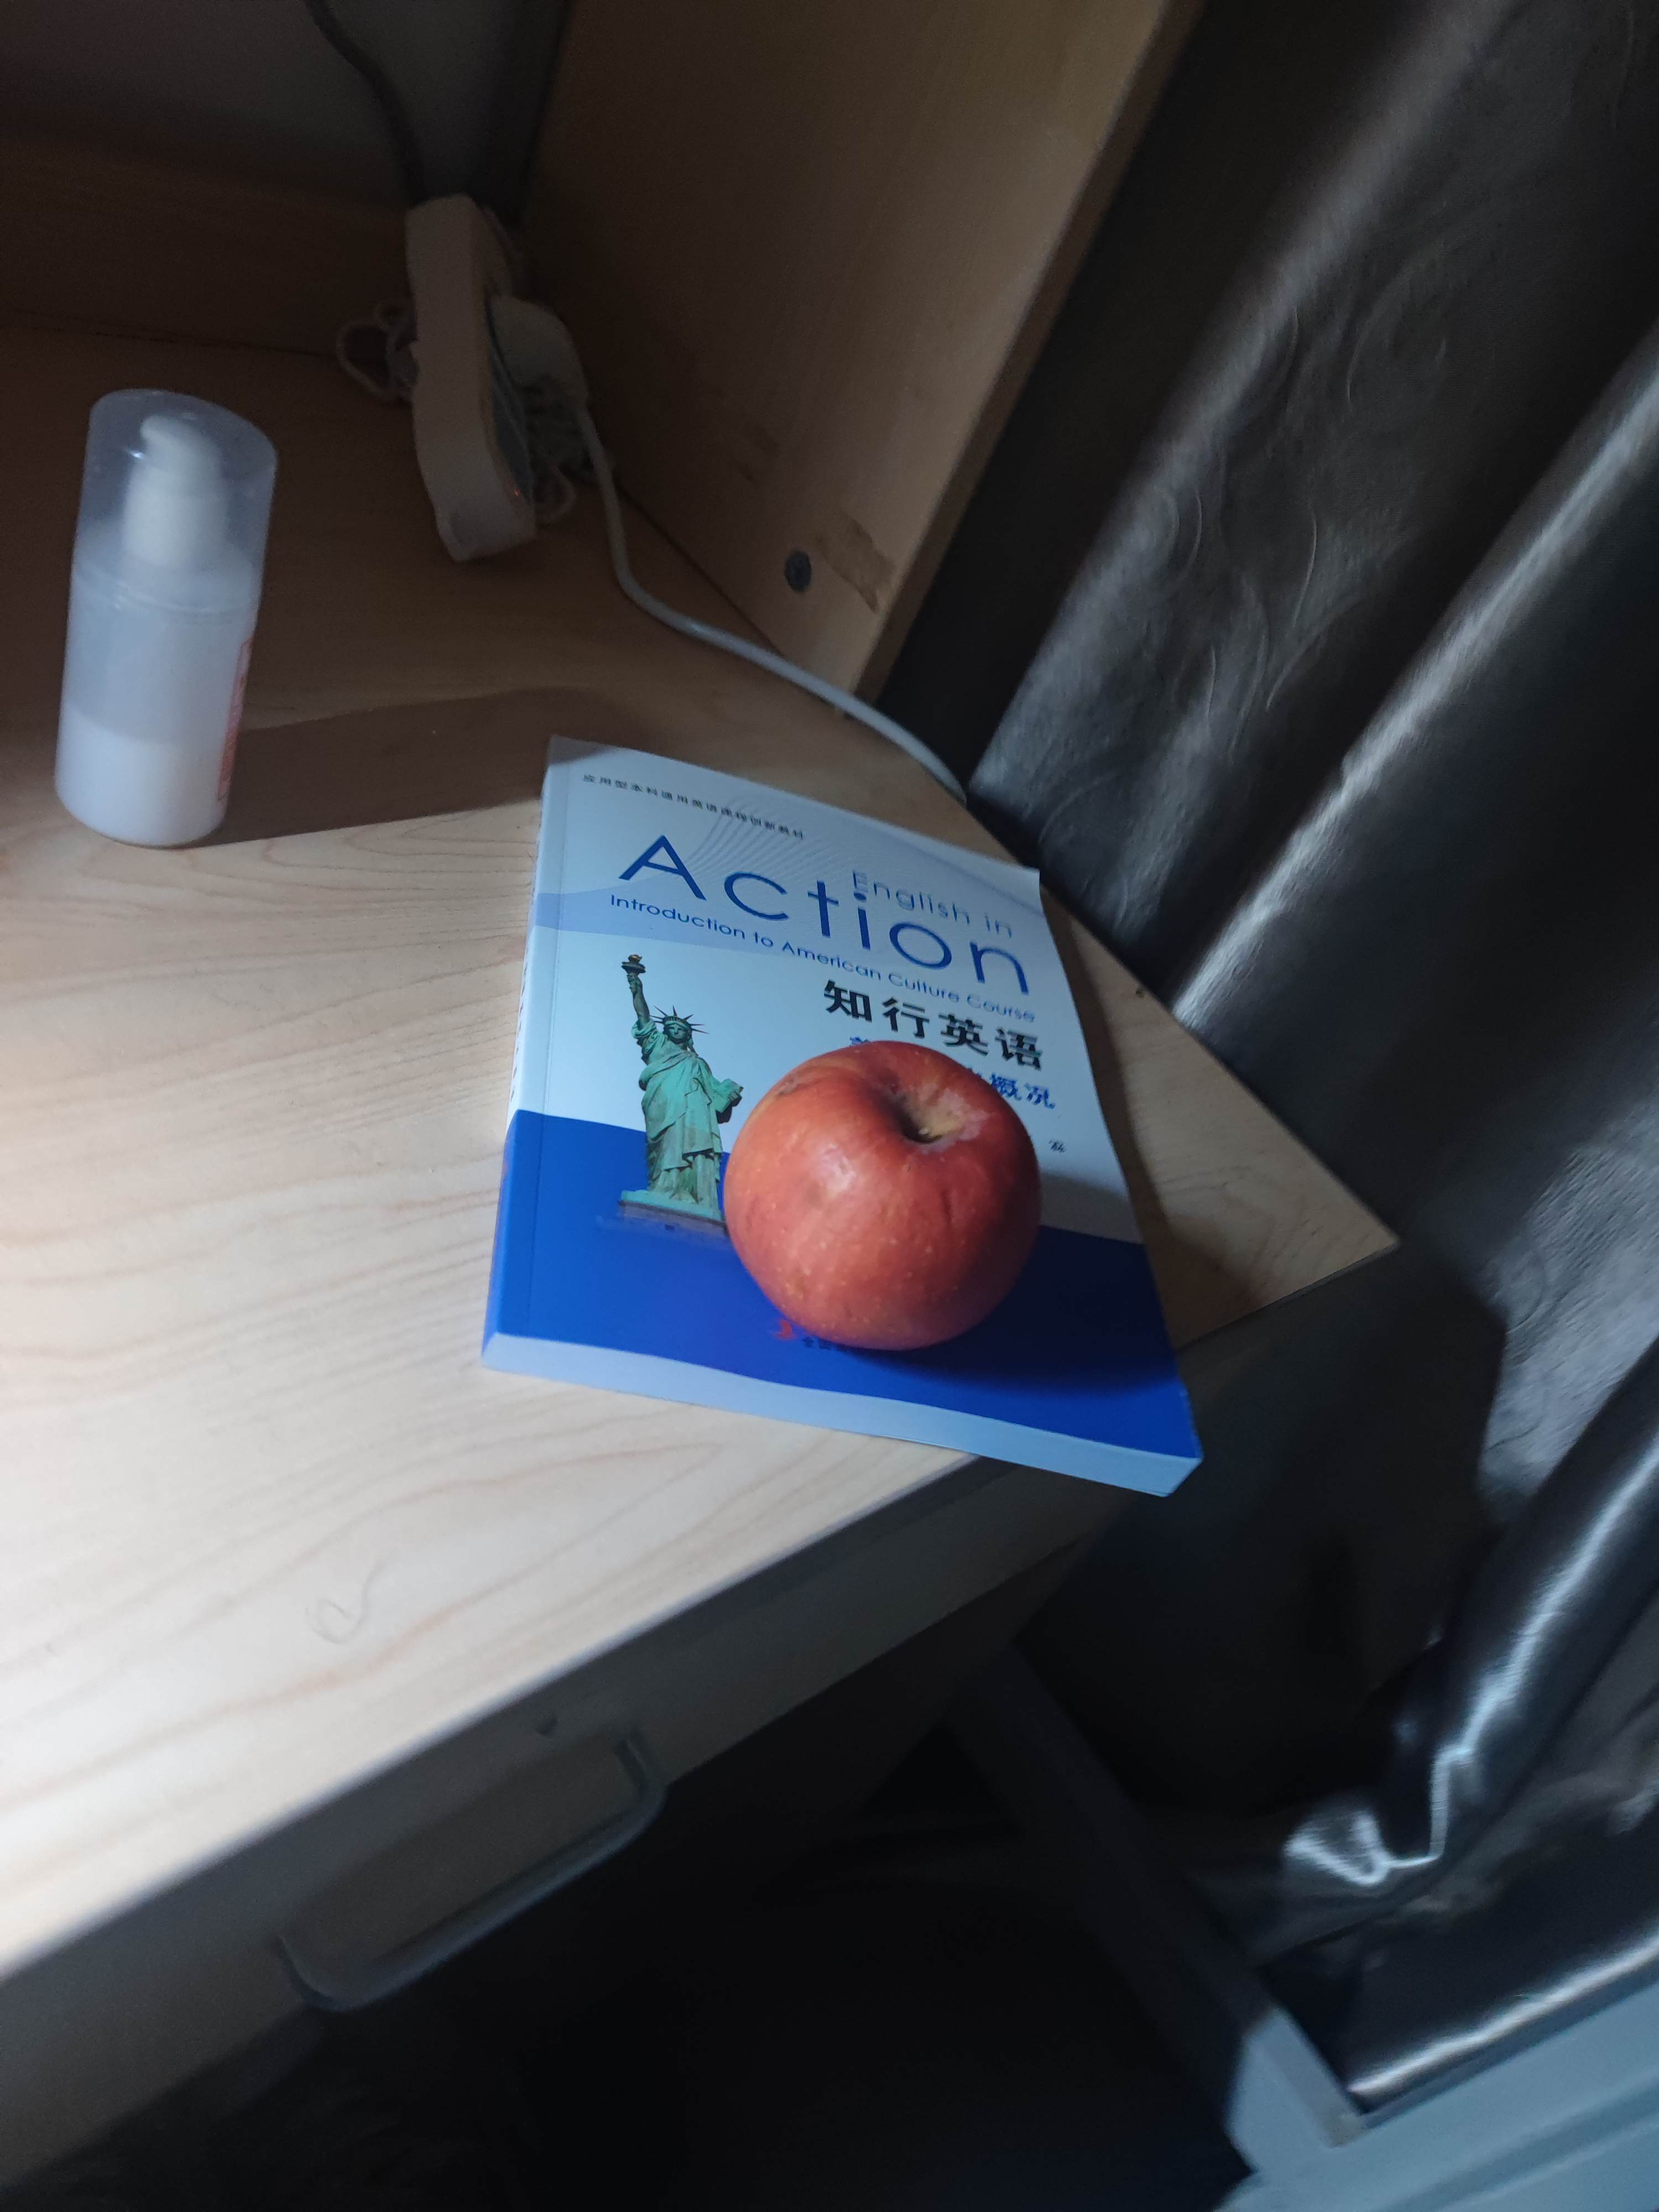apple: (721, 1038, 1047, 1359)
